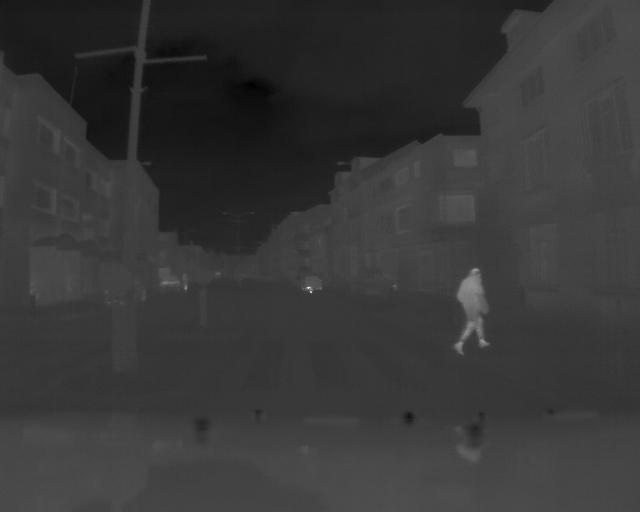car: (104, 273, 148, 305), (299, 271, 326, 294), (160, 272, 181, 295)
person: (446, 267, 493, 359), (182, 270, 190, 294)
